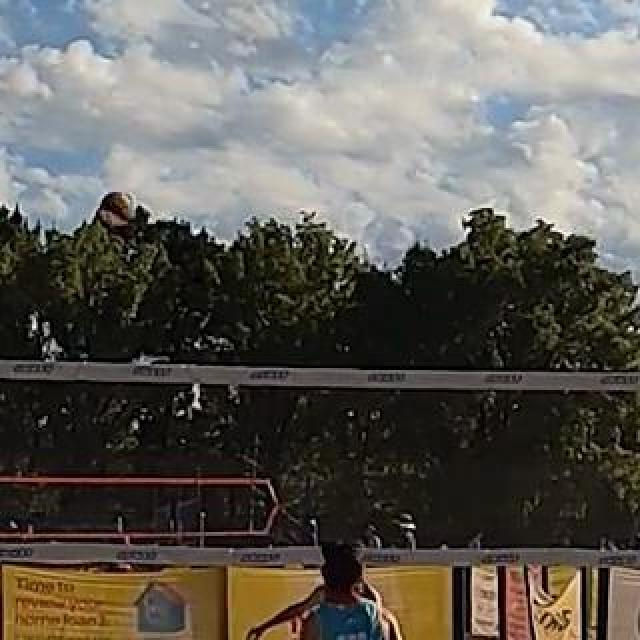volleyball: (99, 190, 137, 226)
